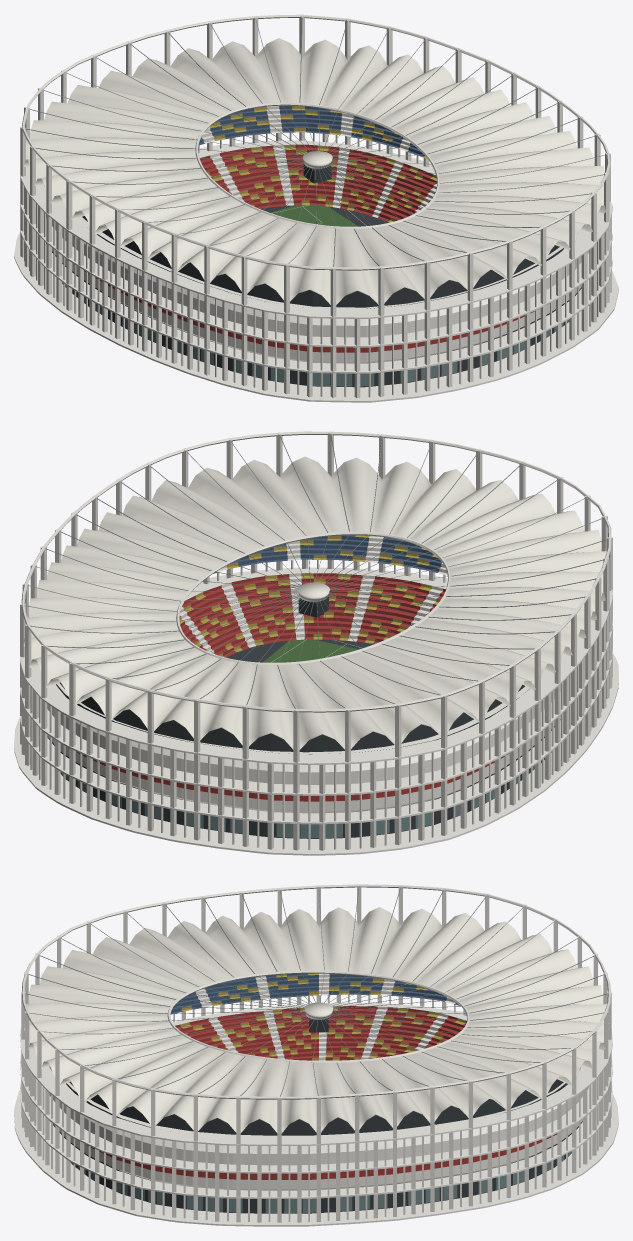
The model's file is arena-nationala-near.glb.
3 renders of one model, top to bottom at view 1: azimuth 30°, elevation 25°; view 2: azimuth 150°, elevation 25°; view 3: azimuth 270°, elevation 25°, orthographic. The views are drawn at different scales.
Visible parts, largest first — view 1: arena-nationala-0-roof, arena-nationala-0-concrete, arena-nationala-0-steel, arena-nationala-0-seats, arena-nationala-0-shadow, arena-nationala-0-yellow, arena-nationala-0-upper, arena-nationala-0-glow, arena-nationala-0-turf; view 2: arena-nationala-0-roof, arena-nationala-0-concrete, arena-nationala-0-seats, arena-nationala-0-steel, arena-nationala-0-shadow, arena-nationala-0-yellow, arena-nationala-0-upper, arena-nationala-0-glow, arena-nationala-0-turf; view 3: arena-nationala-0-roof, arena-nationala-0-concrete, arena-nationala-0-seats, arena-nationala-0-steel, arena-nationala-0-shadow, arena-nationala-0-yellow, arena-nationala-0-upper, arena-nationala-0-glow.
Part boxes in pixels (x1=…): arena-nationala-0-roof: x1=24, y1=38, x2=605, y2=304; arena-nationala-0-concrete: x1=14, y1=14, x2=618, y2=402; arena-nationala-0-steel: x1=26, y1=18, x2=605, y2=266; arena-nationala-0-seats: x1=84, y1=144, x2=549, y2=352; arena-nationala-0-shadow: x1=46, y1=164, x2=581, y2=387; arena-nationala-0-yellow: x1=207, y1=105, x2=436, y2=222; arena-nationala-0-upper: x1=198, y1=105, x2=424, y2=157; arena-nationala-0-glow: x1=62, y1=282, x2=569, y2=386; arena-nationala-0-turf: x1=270, y1=205, x2=358, y2=226; arena-nationala-0-roof: x1=23, y1=456, x2=606, y2=749; arena-nationala-0-concrete: x1=14, y1=431, x2=618, y2=855; arena-nationala-0-seats: x1=76, y1=573, x2=509, y2=801; arena-nationala-0-steel: x1=25, y1=435, x2=606, y2=708; arena-nationala-0-shadow: x1=49, y1=595, x2=560, y2=838; arena-nationala-0-yellow: x1=179, y1=535, x2=440, y2=657; arena-nationala-0-upper: x1=213, y1=535, x2=442, y2=573; arena-nationala-0-glow: x1=47, y1=736, x2=551, y2=838; arena-nationala-0-turf: x1=263, y1=639, x2=358, y2=662; arena-nationala-0-roof: x1=24, y1=907, x2=609, y2=1133; arena-nationala-0-concrete: x1=14, y1=884, x2=618, y2=1226; arena-nationala-0-seats: x1=86, y1=1006, x2=563, y2=1179; arena-nationala-0-steel: x1=25, y1=887, x2=606, y2=1096; arena-nationala-0-shadow: x1=53, y1=1018, x2=581, y2=1213; arena-nationala-0-yellow: x1=180, y1=973, x2=465, y2=1060; arena-nationala-0-upper: x1=170, y1=973, x2=459, y2=1014; arena-nationala-0-glow: x1=50, y1=1121, x2=582, y2=1213.
Size of the model in its own units: 204 by 54.92 by 238.
